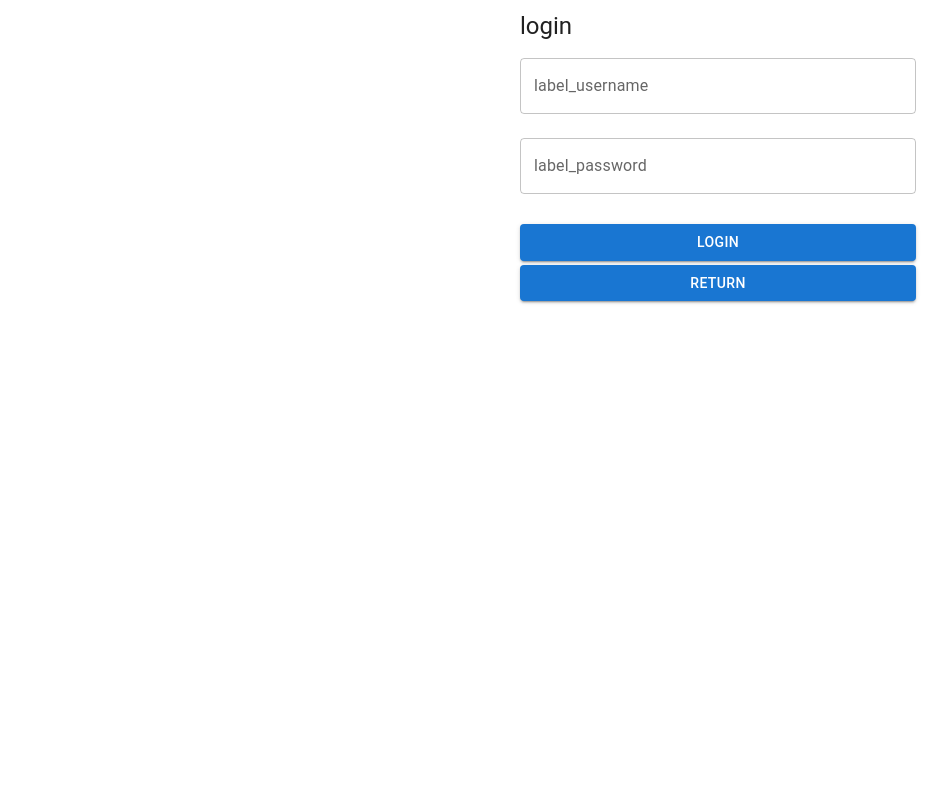
Scenario: Login component › should login user successfully
Simulate user input
Step 1. Type "testUser" into the field labelled "label_username" → (718, 86), box [520,58,916,114]
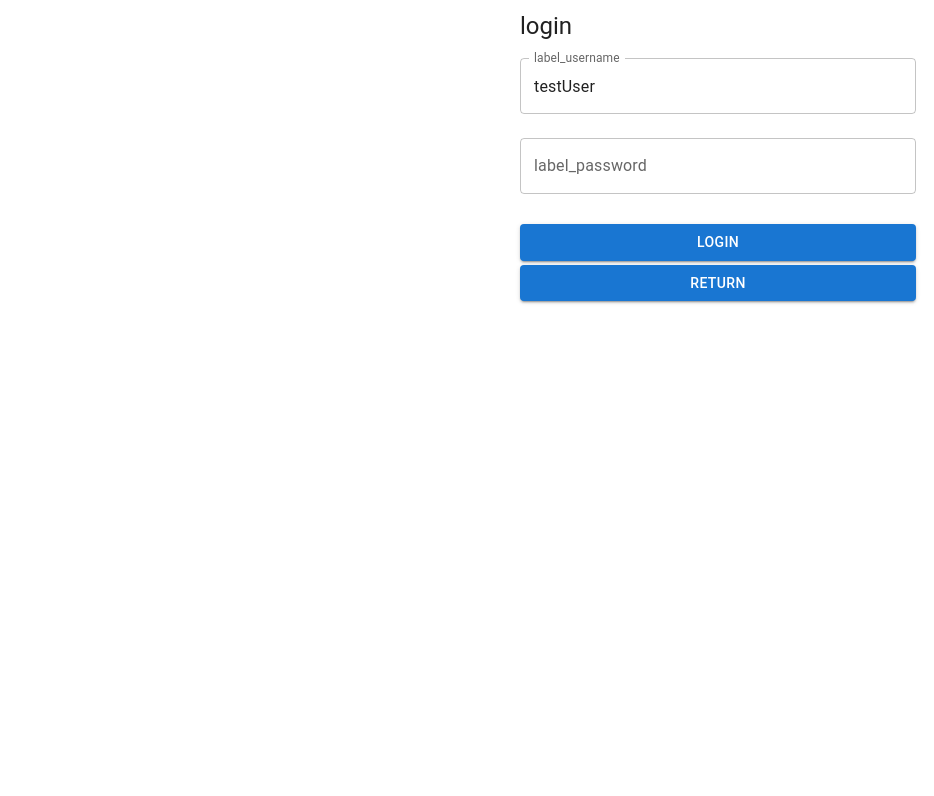
Step 2. Type "testPassword" into the password field labelled "label_password" → (718, 166), box [520,138,916,194]
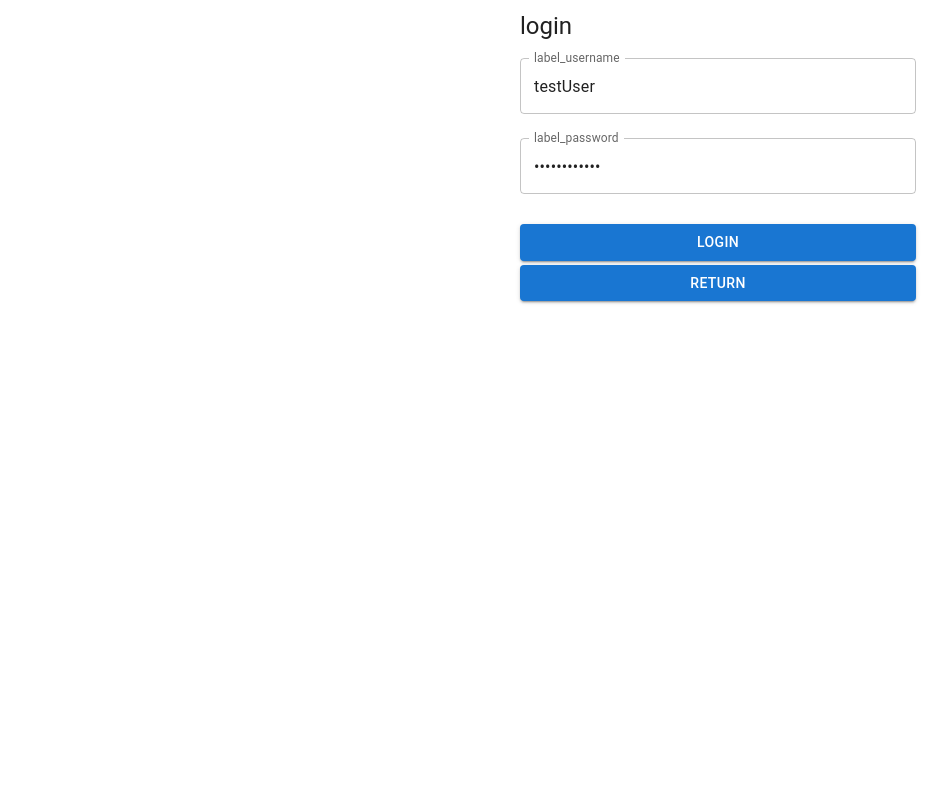
Trigger the login button click
Step 3. Click the button "login" → click(718, 242), box [520,224,916,260]
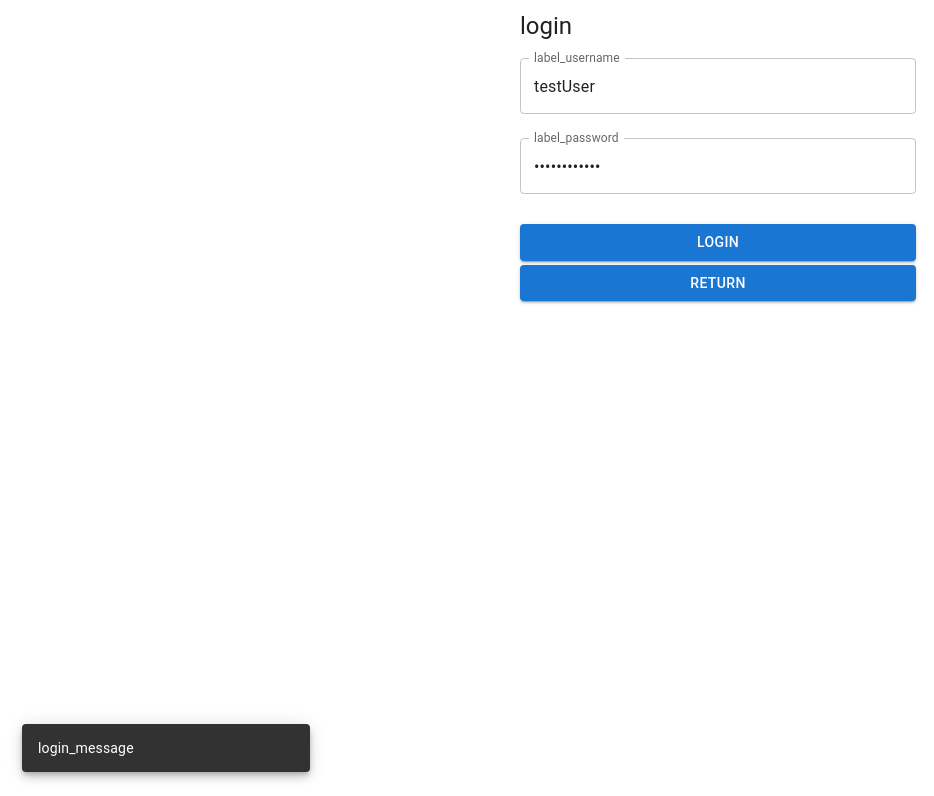
Check: the element with test id "login-successfull-snackbar" is shown, box [22,724,310,772]
